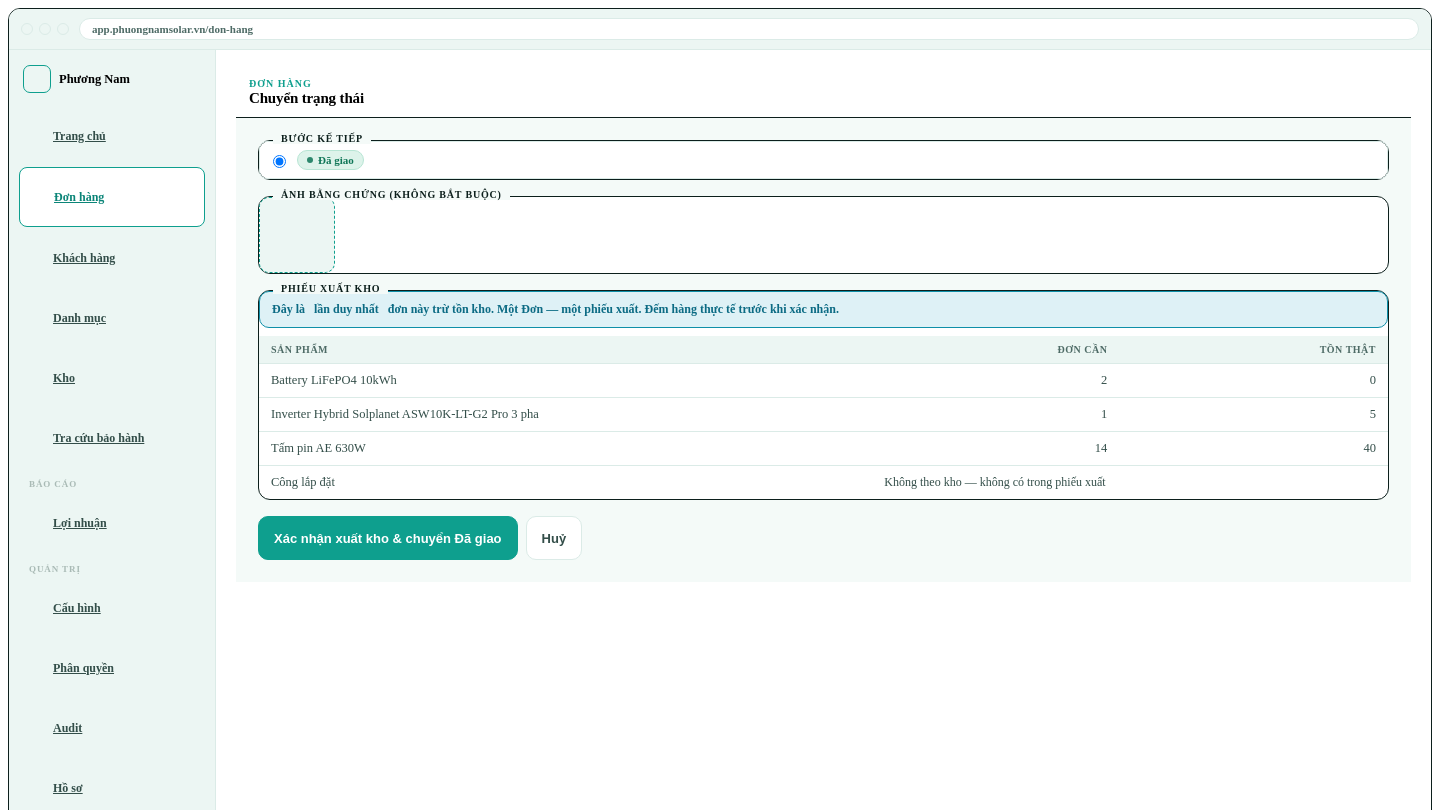
Test: Status change — "Đã giao" issues stock › 409 short stock ⇒ banner with the backend message + error right under row `lines.0`
Click the button "Xác nhận xuất kho & chuyển Đã giao": (388,538) x1=258 y1=516 x2=518 y2=560
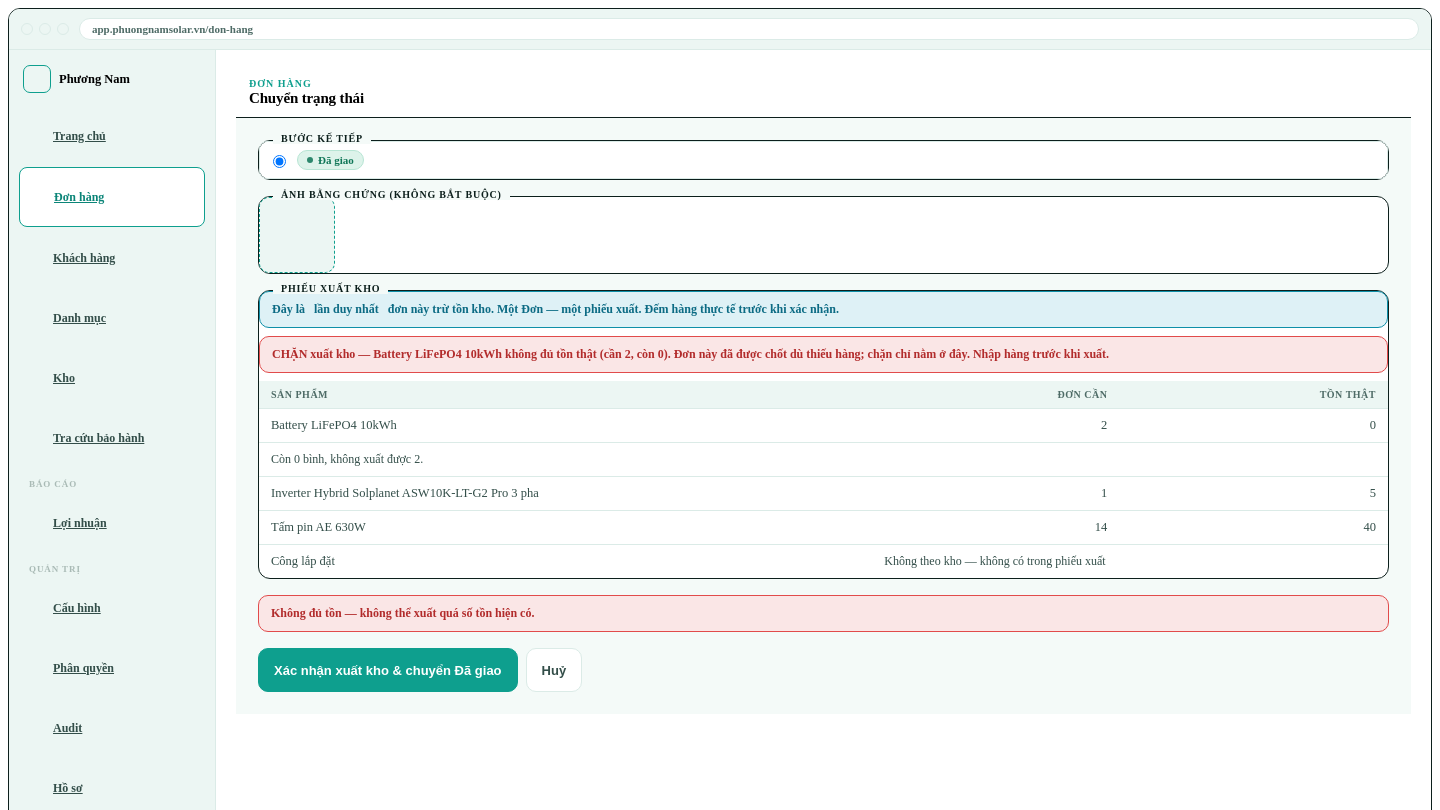
Expected: the text "Không đủ tồn — không thể xuất quá số tồn hiện có." is shown, x1=258 y1=595 x2=1389 y2=632
Expected: the row "Còn 0 bình, không xuất được 2." is shown, x1=259 y1=442 x2=1388 y2=476
